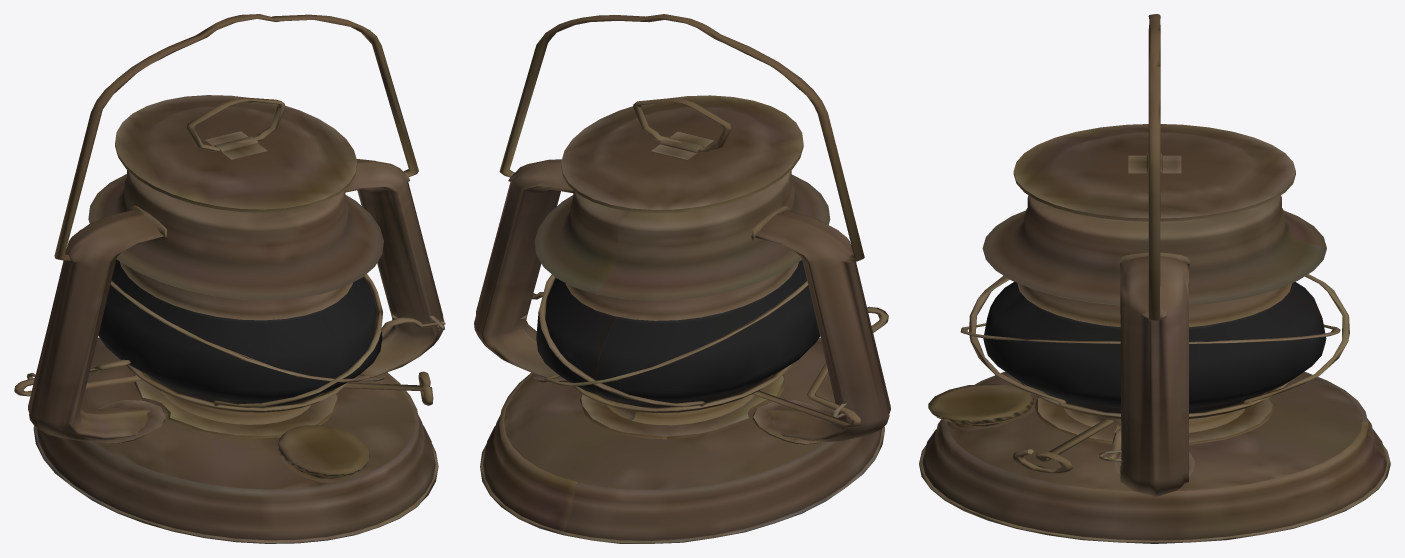
The model's file is ph-lantern-01.glb.
The picture shows the model from 3 angles, left to right: view 1: azimuth 30°, elevation 25°; view 2: azimuth 150°, elevation 25°; view 3: azimuth 270°, elevation 25°; orthographic projection.
Parts seen in each view (by area): view 1: Lantern_01, Lantern_01_glass; view 2: Lantern_01, Lantern_01_glass; view 3: Lantern_01, Lantern_01_glass.
Part boxes in pixels (box(x1,y1,x2,y2)): Lantern_01: box(14, 14, 445, 543); Lantern_01_glass: box(98, 259, 382, 406); Lantern_01: box(474, 14, 890, 543); Lantern_01_glass: box(536, 260, 820, 407); Lantern_01: box(919, 14, 1390, 543); Lantern_01_glass: box(983, 281, 1326, 412).
Bounding box in the file's own units: 1 × 0.9991 × 0.9989.
2 materials, 2 textured.
